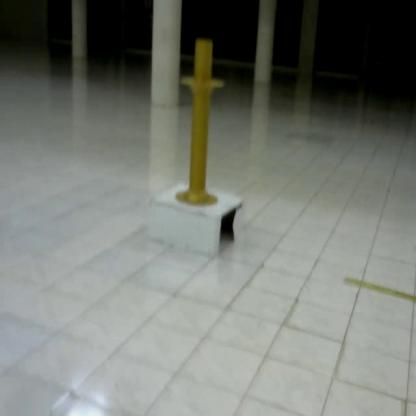pole: (175, 36, 225, 212)
